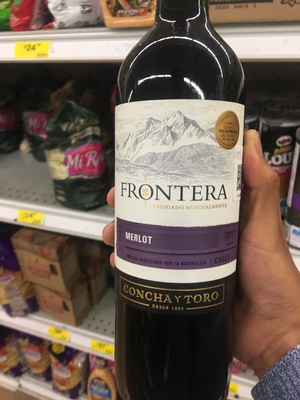frontera merlot: (99, 8, 251, 400)
